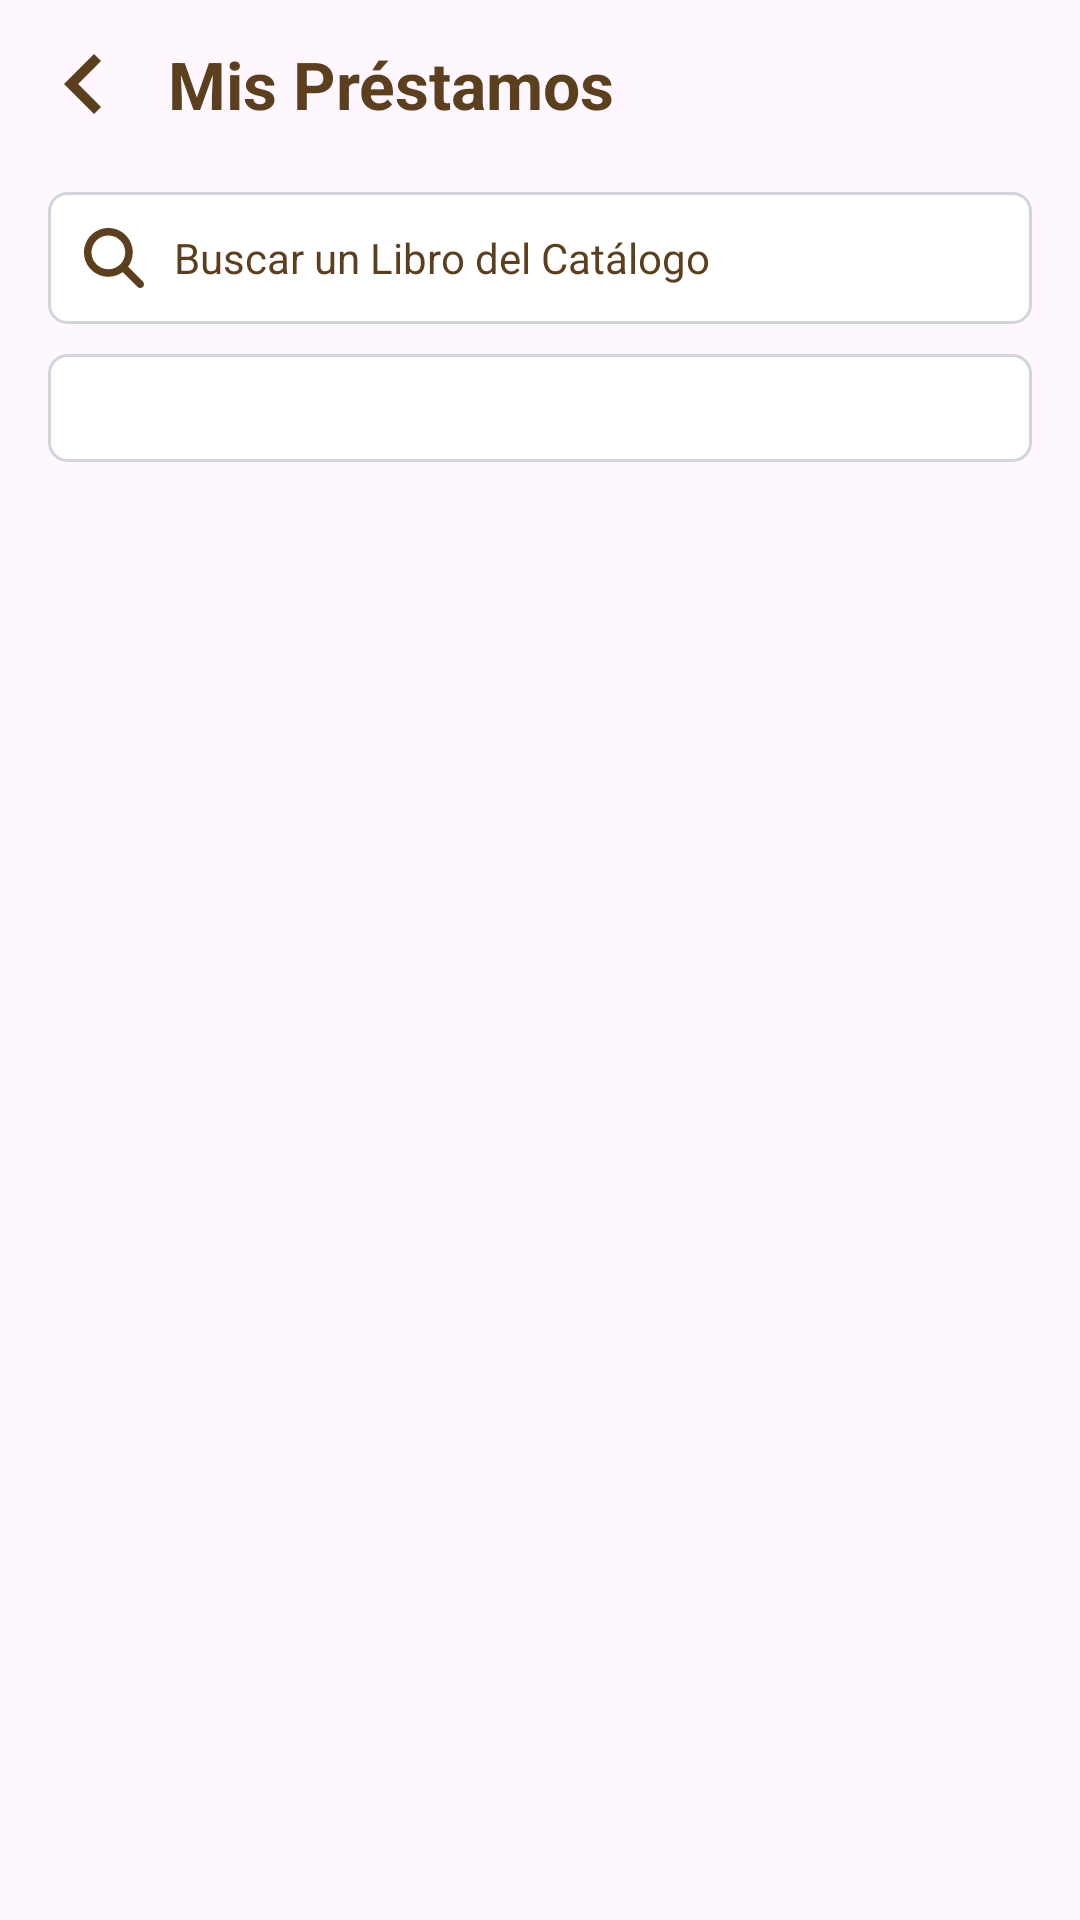

Screen size 1080x1920. Icon name, then its center in pixels as (x=x, y=y):
Regresar: (x=82, y=84)
